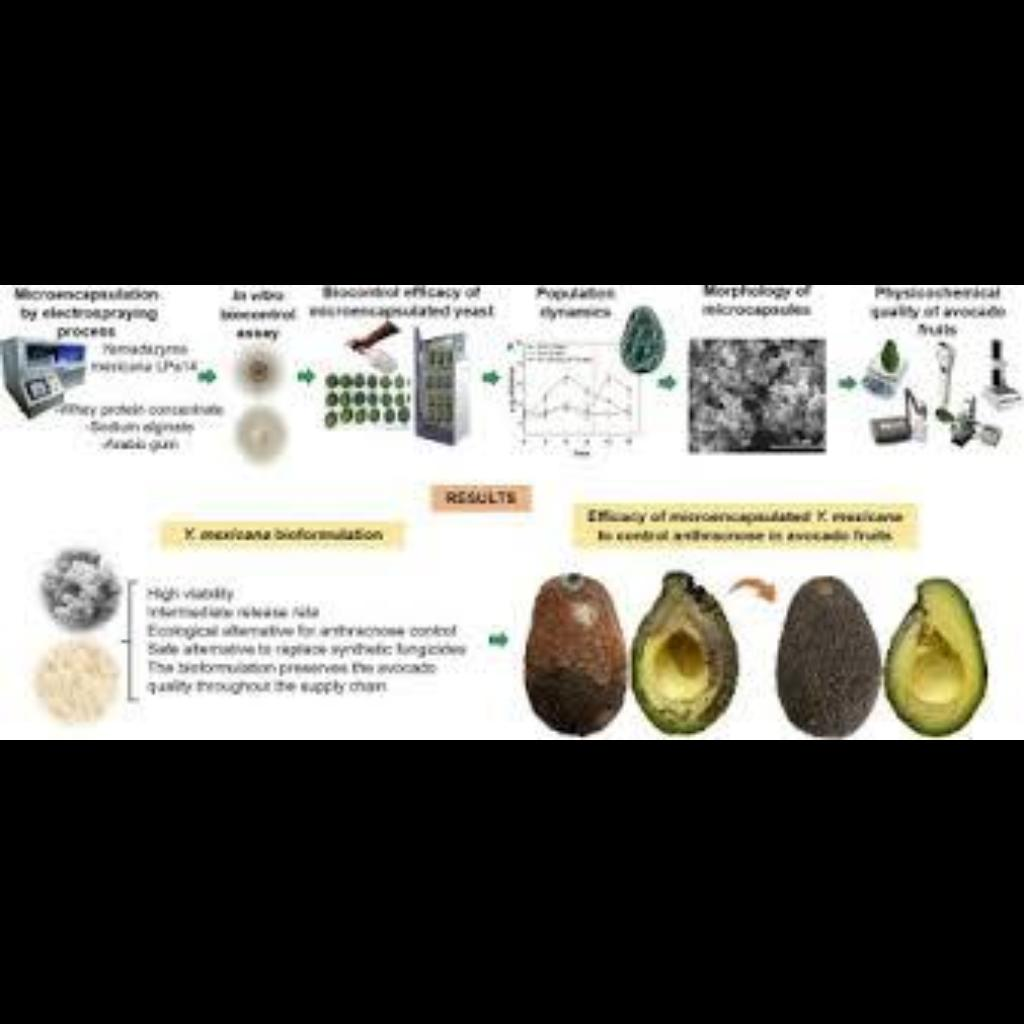Anthracnose: (526, 573, 736, 731), (770, 578, 876, 726)
